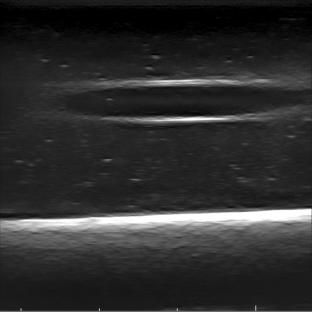vessel: (59, 77, 304, 125)
